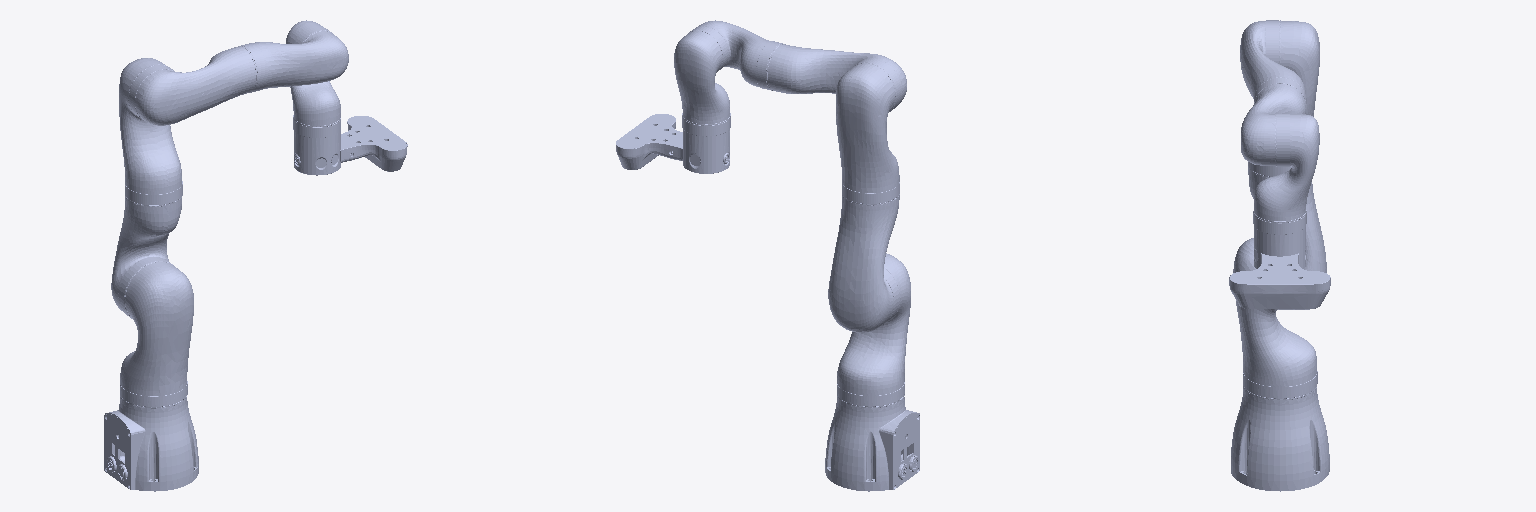
URDF robot description (tl_tcb705v):
<?xml version="1.0" encoding="utf-8"?>
<!-- This URDF was automatically created by SolidWorks to URDF Exporter! Originally created by Stephen Brawner (brawner@gmail.com) 
     Commit Version: 1.6.0-4-g7f85cfe  Build Version: 1.6.7995.38578
     For more information, please see http://wiki.ros.org/sw_urdf_exporter -->
<robot
  name="tl_tcb705v">
  <link
    name="link0">
    <inertial>
      <origin
        xyz="0.000708831292588155 -8.6107534914899E-05 0.0437241147546661"
        rpy="0 0 0" />
      <mass
        value="0.184997778677383" />
      <inertia
        ixx="0.000408655880224899"
        ixy="-6.47925326858496E-07"
        ixz="3.45905947380277E-06"
        iyy="0.000402045698173365"
        iyz="-4.42033155327565E-07"
        izz="0.000394929591269372" />
    </inertial>
    <visual>
      <origin
        xyz="0 0 0"
        rpy="0 0 0" />
      <geometry>
        <mesh
          filename="package://tl_description/meshes/tl_tcb705v/link0.STL" />
      </geometry>
      <material
        name="">
        <color
          rgba="0.792156862745098 0.819607843137255 0.933333333333333 1" />
      </material>
    </visual>
    <collision>
      <origin
        xyz="0 0 0"
        rpy="0 0 0" />
      <geometry>
        <mesh
          filename="package://tl_description/meshes/tl_tcb705v/link0.STL" />
      </geometry>
    </collision>
  </link>
  <link
    name="link1">
    <inertial>
      <origin
        xyz="-1.35769652161939E-05 -0.0147010788327374 0.0739643338500664"
        rpy="0 0 0" />
      <mass
        value="0.140770017749913" />
      <inertia
        ixx="0.000389108973190017"
        ixy="1.27518035400537E-08"
        ixz="-4.54948951869937E-08"
        iyy="0.000404550886627064"
        iyz="5.39425123502659E-05"
        izz="0.000158791304990713" />
    </inertial>
    <visual>
      <origin
        xyz="0 0 0"
        rpy="0 0 0" />
      <geometry>
        <mesh
          filename="package://tl_description/meshes/tl_tcb705v/link1.STL" />
      </geometry>
      <material
        name="">
        <color
          rgba="0.792156862745098 0.819607843137255 0.933333333333333 1" />
      </material>
    </visual>
    <collision>
      <origin
        xyz="0 0 0"
        rpy="0 0 0" />
      <geometry>
        <mesh
          filename="package://tl_description/meshes/tl_tcb705v/link1.STL" />
      </geometry>
    </collision>
  </link>
  <joint
    name="joint1"
    type="revolute">
    <origin
      xyz="0 0 0.11455"
      rpy="0 0 0" />
    <parent
      link="link0" />
    <child
      link="link1" />
    <axis
      xyz="0 0 1" />
    <limit
      lower="-3.1416"
      upper="3.1416"
      effort="0"
      velocity="0" />
  </joint>
  <link
    name="link2">
    <inertial>
      <origin
        xyz="1.15837155566432E-05 -0.056060312511787 0.0115234613599734"
        rpy="0 0 0" />
      <mass
        value="0.124442941703835" />
      <inertia
        ixx="0.000370530927971359"
        ixy="-2.95787858018971E-08"
        ixz="-1.20173025530993E-08"
        iyy="0.000121231902708259"
        iyz="-7.13268690890967E-05"
        izz="0.000380128618106537" />
    </inertial>
    <visual>
      <origin
        xyz="0 0 0"
        rpy="0 0 0" />
      <geometry>
        <mesh
          filename="package://tl_description/meshes/tl_tcb705v/link2.STL" />
      </geometry>
      <material
        name="">
        <color
          rgba="0.792156862745098 0.819607843137255 0.933333333333333 1" />
      </material>
    </visual>
    <collision>
      <origin
        xyz="0 0 0"
        rpy="0 0 0" />
      <geometry>
        <mesh
          filename="package://tl_description/meshes/tl_tcb705v/link2.STL" />
      </geometry>
    </collision>
  </link>
  <joint
    name="joint2"
    type="revolute">
    <origin
      xyz="0 0.00715 0.12725"
      rpy="-1.5708 0 0" />
    <parent
      link="link1" />
    <child
      link="link2" />
    <axis
      xyz="0 0 1" />
    <limit
      lower="-2.4086"
      upper="2.4086"
      effort="0"
      velocity="0" />
  </joint>
  <link
    name="link3">
    <inertial>
      <origin
        xyz="-0.000130472464870893 0.0129895019093583 0.0728740582497509"
        rpy="0 0 0" />
      <mass
        value="0.114585035593997" />
      <inertia
        ixx="0.000277972638531885"
        ixy="-1.69751464800279E-07"
        ixz="9.6777644652655E-07"
        iyy="0.000287450571009951"
        iyz="-3.76351173135839E-05"
        izz="9.72079011096082E-05" />
    </inertial>
    <visual>
      <origin
        xyz="0 0 0"
        rpy="0 0 0" />
      <geometry>
        <mesh
          filename="package://tl_description/meshes/tl_tcb705v/link3.STL" />
      </geometry>
      <material
        name="">
        <color
          rgba="0.792156862745098 0.819607843137255 0.933333333333333 1" />
      </material>
    </visual>
    <collision>
      <origin
        xyz="0 0 0"
        rpy="0 0 0" />
      <geometry>
        <mesh
          filename="package://tl_description/meshes/tl_tcb705v/link3.STL" />
      </geometry>
    </collision>
  </link>
  <joint
    name="joint3"
    type="revolute">
    <origin
      xyz="0 -0.14065 -0.00735"
      rpy="1.5708 0 0" />
    <parent
      link="link2" />
    <child
      link="link3" />
    <axis
      xyz="0 0 1" />
    <limit
      lower="-3.1416"
      upper="3.1416"
      effort="0"
      velocity="0" />
  </joint>
  <link
    name="link4">
    <inertial>
      <origin
        xyz="-6.46545079789888E-06 0.0577535239528668 0.00878471471675767"
        rpy="0 0 0" />
      <mass
        value="0.0945260086054844" />
      <inertia
        ixx="0.000237785840924485"
        ixy="5.31249473976725E-08"
        ixz="-1.09590834212848E-09"
        iyy="6.42616332899082E-05"
        iyz="4.60316398888432E-05"
        izz="0.000240859287939245" />
    </inertial>
    <visual>
      <origin
        xyz="0 0 0"
        rpy="0 0 0" />
      <geometry>
        <mesh
          filename="package://tl_description/meshes/tl_tcb705v/link4.STL" />
      </geometry>
      <material
        name="">
        <color
          rgba="0.792156862745098 0.819607843137255 0.933333333333333 1" />
      </material>
    </visual>
    <collision>
      <origin
        xyz="0 0 0"
        rpy="0 0 0" />
      <geometry>
        <mesh
          filename="package://tl_description/meshes/tl_tcb705v/link4.STL" />
      </geometry>
    </collision>
  </link>
  <joint
    name="joint4"
    type="revolute">
    <origin
      xyz="0 -0.00815 0.12915"
      rpy="1.5708 1.5708 0" />
    <parent
      link="link3" />
    <child
      link="link4" />
    <axis
      xyz="0 0 -1" />
    <limit
      lower="-4.0600"
      upper="0.9250"
      effort="0"
      velocity="0" />
  </joint>
  <link
    name="link5">
    <inertial>
      <origin
        xyz="1.01576500505227E-05 -0.0129940460614477 0.0552922926184554"
        rpy="0 0 0" />
      <mass
        value="0.072084869364171" />
      <inertia
        ixx="0.000105414971530801"
        ixy="1.21042675683719E-08"
        ixz="2.50153809076529E-09"
        iyy="0.000106134759360343"
        iyz="1.86457228512842E-05"
        izz="4.55695497863123E-05" />
    </inertial>
    <visual>
      <origin
        xyz="0 0 0"
        rpy="0 0 0" />
      <geometry>
        <mesh
          filename="package://tl_description/meshes/tl_tcb705v/link5.STL" />
      </geometry>
      <material
        name="">
        <color
          rgba="0.792156862745098 0.819607843137255 0.933333333333333 1" />
      </material>
    </visual>
    <collision>
      <origin
        xyz="0 0 0"
        rpy="0 0 0" />
      <geometry>
        <mesh
          filename="package://tl_description/meshes/tl_tcb705v/link5.STL" />
      </geometry>
    </collision>
  </link>
  <joint
    name="joint5"
    type="revolute">
    <origin
      xyz="0 0.13665 -0.00835"
      rpy="-1.5708 0 0" />
    <parent
      link="link4" />
    <child
      link="link5" />
    <axis
      xyz="0 0 1" />
    <limit
      lower="-3.1416"
      upper="3.1416"
      effort="0"
      velocity="0" />
  </joint>
  <link
    name="link6">
    <inertial>
      <origin
        xyz="-1.08534955866702E-06 -0.0369306850236364 0.0120181275206643"
        rpy="0 0 0" />
      <mass
        value="0.0641129578489188" />
      <inertia
        ixx="9.88028582567006E-05"
        ixy="7.5720454595473E-09"
        ixz="-3.11303231936323E-09"
        iyy="4.10033820774101E-05"
        iyz="-2.1091488850102E-05"
        izz="9.73769579139643E-05" />
    </inertial>
    <visual>
      <origin
        xyz="0 0 0"
        rpy="0 0 0" />
      <geometry>
        <mesh
          filename="package://tl_description/meshes/tl_tcb705v/link6.STL" />
      </geometry>
      <material
        name="">
        <color
          rgba="0.792156862745098 0.819607843137255 0.933333333333333 1" />
      </material>
    </visual>
    <collision>
      <origin
        xyz="0 0 0"
        rpy="0 0 0" />
      <geometry>
        <mesh
          filename="package://tl_description/meshes/tl_tcb705v/link6.STL" />
      </geometry>
    </collision>
  </link>
  <joint
    name="joint6"
    type="revolute">
    <origin
      xyz="0 0.00365 0.09315"
      rpy="-1.5708 1.5708 0" />
    <parent
      link="link5" />
    <child
      link="link6" />
    <axis
      xyz="0 0 1" />
    <limit
      lower="-0.9250"
      upper="4.0666"
      effort="0"
      velocity="0" />
  </joint>
  <link
    name="link7">
    <inertial>
      <origin
        xyz="-0.04879510582886 0.00032912923350123 0.0435901056095525"
        rpy="0 0 0" />
      <mass
        value="0.149593272083011" />
      <inertia
        ixx="0.000107042823024919"
        ixy="2.27099972791619E-06"
        ixz="4.34865325784136E-05"
        iyy="0.000281195906174628"
        iyz="-7.74496431582276E-08"
        izz="0.000328750286740244" />
    </inertial>
    <visual>
      <origin
        xyz="0 0 0"
        rpy="0 0 0" />
      <geometry>
        <mesh
          filename="package://tl_description/meshes/tl_tcb705v/link7.STL" />
      </geometry>
      <material
        name="">
        <color
          rgba="0.792156862745098 0.819607843137255 0.933333333333333 1" />
      </material>
    </visual>
    <collision>
      <origin
        xyz="0 0 0"
        rpy="0 0 0" />
      <geometry>
        <mesh
          filename="package://tl_description/meshes/tl_tcb705v/link7.STL" />
      </geometry>
    </collision>
  </link>
  <joint
    name="joint7"
    type="revolute">
    <origin
      xyz="0 -0.09515 -0.00385"
      rpy="1.5708 0 0" />
    <parent
      link="link6" />
    <child
      link="link7" />
    <axis
      xyz="0 0 1" />
    <limit
      lower="-3.1416"
      upper="3.1416"
      effort="0"
      velocity="0" />
  </joint>
  <link
    name="camera_link">
    <inertial>
      <origin
        xyz="0.00587064733847054 0.00117311945839996 0.0124843774829499"
        rpy="0 0 0" />
      <mass
        value="0.0471700197583254" />
      <inertia
        ixx="2.87281831755839E-05"
        ixy="4.20817640149262E-07"
        ixz="-4.33348977986953E-09"
        iyy="4.39204772037493E-06"
        iyz="-5.7821952477535E-10"
        izz="2.89731881434672E-05" />
    </inertial>
    <visual>
      <origin
        xyz="0 0 0"
        rpy="0 0 0" />
      <geometry>
        <mesh
          filename="package://tl_description/meshes/tl_tcb705v/camera_link.STL" />
      </geometry>
      <material
        name="">
        <color
          rgba="0.792156862745098 0.819607843137255 0.933333333333333 1" />
      </material>
    </visual>
    <collision>
      <origin
        xyz="0 0 0"
        rpy="0 0 0" />
      <geometry>
        <mesh
          filename="package://tl_description/meshes/tl_tcb705v/camera_link.STL" />
      </geometry>
    </collision>
  </link>
  <joint
    name="camera_joint"
    type="fixed">
    <origin
      xyz="-0.072 0 0.046931"
      rpy="0 -1.5708 0" />
    <parent
      link="link7" />
    <child
      link="camera_link" />
    <axis
      xyz="0 0 0" />
  </joint>
</robot>

--- Facts derived from the render (not from the file) ---
Views: 3 orthographic renders of the robot side by side, from view 1: azimuth 30°, elevation 25°; view 2: azimuth 150°, elevation 25°; view 3: azimuth 270°, elevation 25°.
Model tl_tcb705v with 9 links and 8 joints (7 revolute, 1 fixed), rooted at link0, posed every joint at zero.
Visible links, largest first — view 1: link1, link0, link4, link3, link7, link2, link5, link6; view 2: link0, link2, link3, link1, link6, link4, link7, link5; view 3: link0, link7, link1, link6, link5, link3, link4, link2.
Boxes of the visible links, x1=… form: link1: x1=118, y1=257, x2=193, y2=395; link0: x1=104, y1=381, x2=198, y2=491; link4: x1=135, y1=43, x2=267, y2=125; link3: x1=119, y1=58, x2=181, y2=194; link7: x1=294, y1=116, x2=407, y2=175; link2: x1=111, y1=181, x2=182, y2=310; link5: x1=253, y1=26, x2=348, y2=88; link6: x1=286, y1=20, x2=340, y2=137; link0: x1=825, y1=382, x2=919, y2=491; link2: x1=828, y1=182, x2=899, y2=332; link3: x1=836, y1=58, x2=901, y2=192; link1: x1=837, y1=253, x2=910, y2=395; link6: x1=674, y1=31, x2=730, y2=136; link4: x1=756, y1=41, x2=906, y2=104; link7: x1=616, y1=114, x2=729, y2=173; link5: x1=689, y1=20, x2=770, y2=86; link0: x1=1231, y1=371, x2=1329, y2=491; link7: x1=1229, y1=227, x2=1330, y2=308; link1: x1=1233, y1=238, x2=1316, y2=386; link6: x1=1253, y1=114, x2=1319, y2=234; link5: x1=1241, y1=84, x2=1305, y2=166; link3: x1=1266, y1=20, x2=1319, y2=116; link4: x1=1240, y1=21, x2=1306, y2=109; link2: x1=1248, y1=162, x2=1326, y2=309.
Size in the robot's own frame: 0.3858 by 0.112 by 0.547 metres.
Meshes: 9 distinct files referenced, 9 mesh visuals loaded (9 binary STL).
